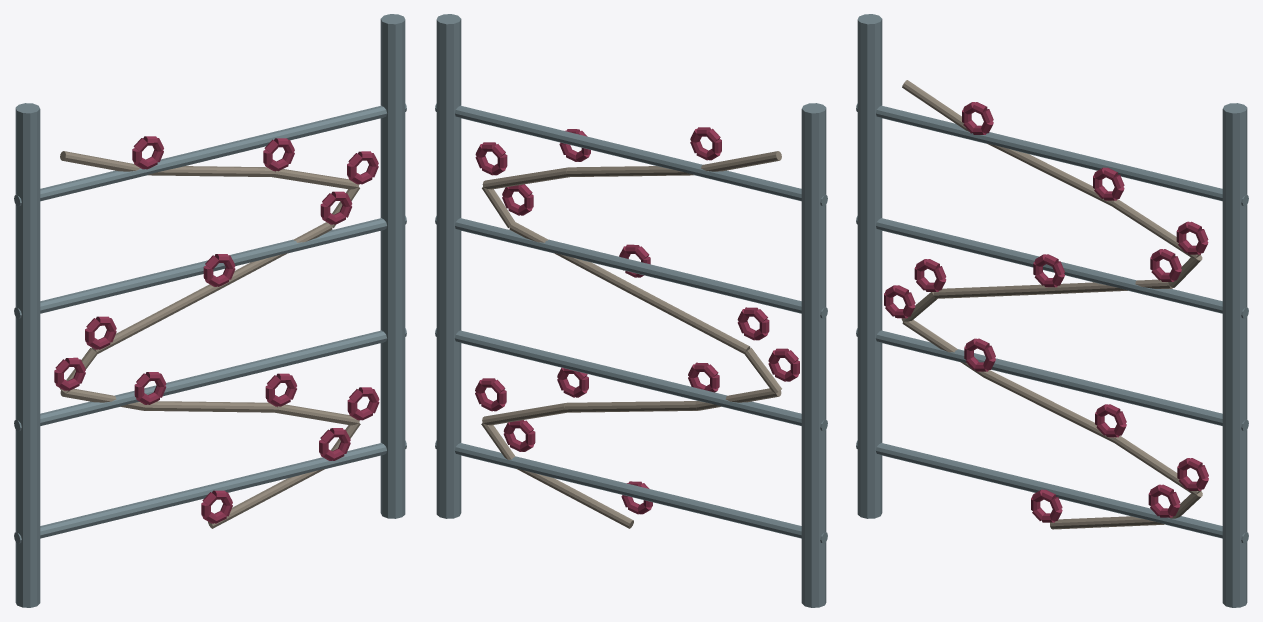
File: a4_prop.glb
3 views of the same model, side by side, from view 1: azimuth 30°, elevation 25°; view 2: azimuth 150°, elevation 25°; view 3: azimuth 330°, elevation 25° (orthographic).
Visible parts, largest first — view 1: Body.043; view 2: Body.043; view 3: Body.043.
Boxes of the visible parts, left/top/right/bottom form: Body.043: left=14, top=14, right=406, bottom=607; Body.043: left=435, top=14, right=827, bottom=607; Body.043: left=856, top=14, right=1248, bottom=607.
Bounding box in the file's own units: 1.8 × 2.2 × 0.1176.
